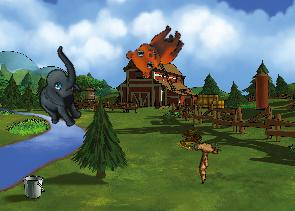bear: (121, 14, 189, 84)
eagle: (177, 126, 232, 184)
elephant: (18, 45, 105, 134)
